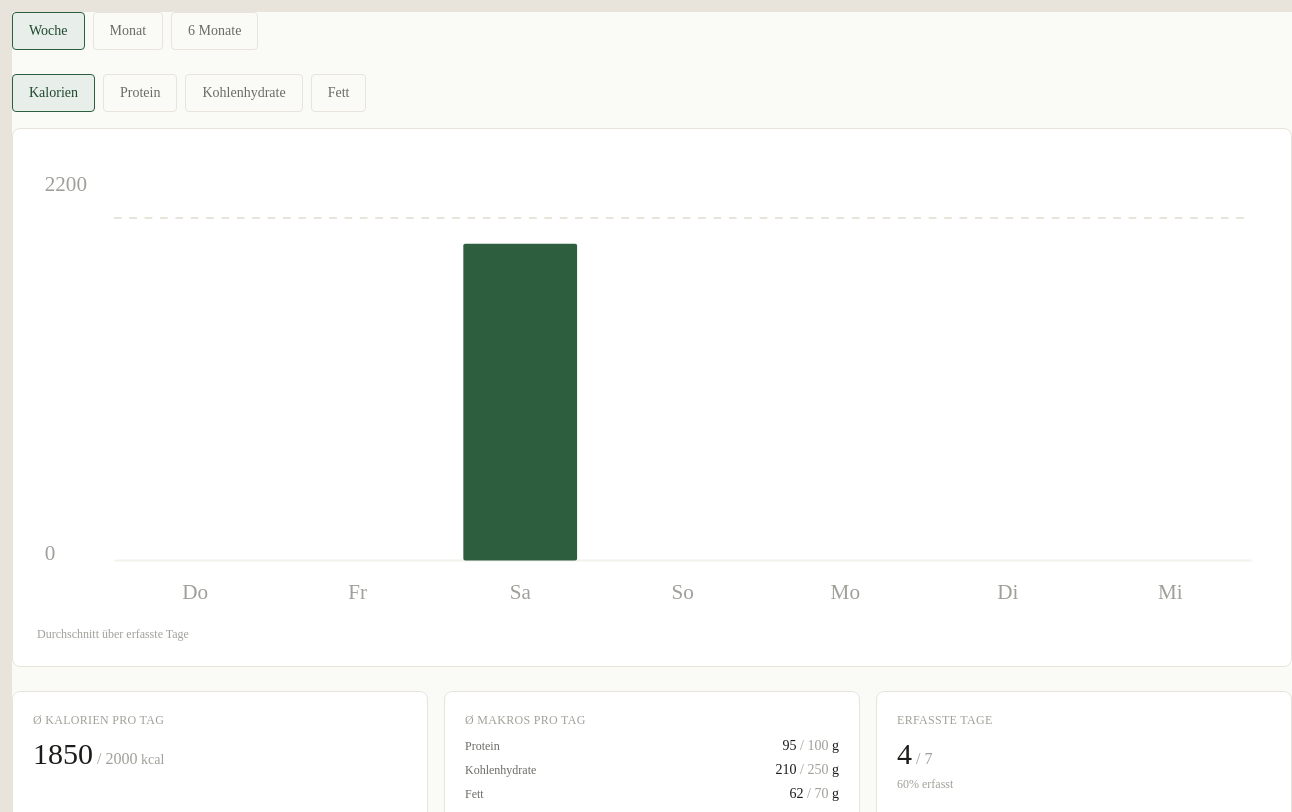
NutritionInsights › switches the charted metric without refetching
The image size is (1292, 812).
Check: the text "Ø Kalorien pro Tag" is shown, box [33,713,164,727]
Click the button "Protein".
click(140, 93)  # box [103,74,178,112]
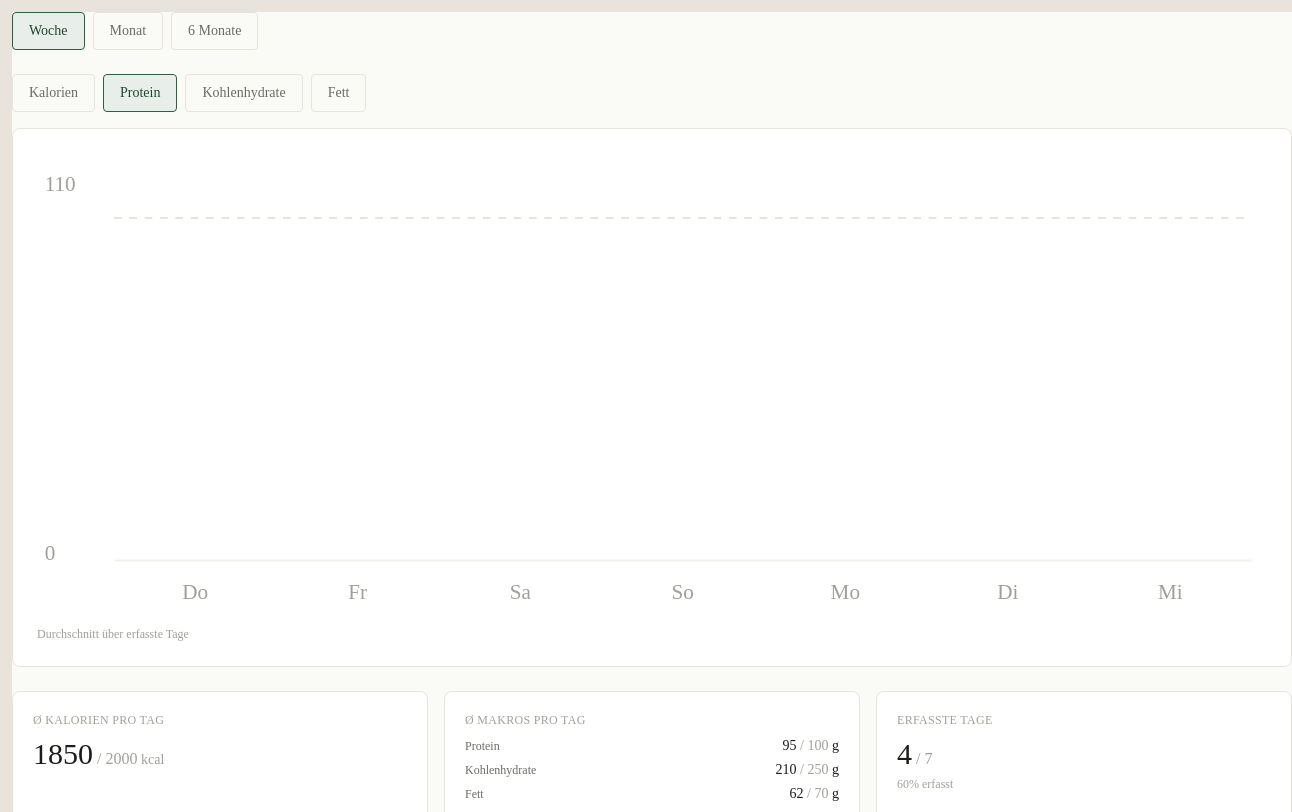
Check: the picture named "Protein pro Tag" is shown, box [37,153,1267,614]
